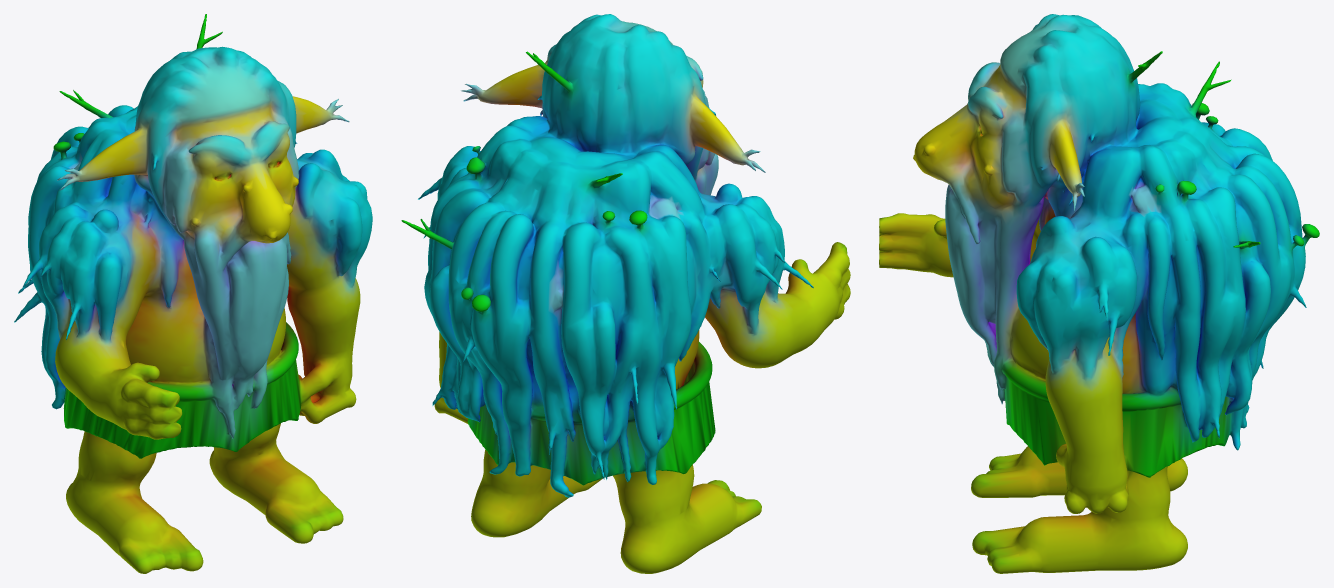
Rendered from troll-lod0.glb.
3 views of the same model, side by side, from view 1: azimuth 30°, elevation 25°; view 2: azimuth 150°, elevation 25°; view 3: azimuth 270°, elevation 25° (orthographic). The views are drawn at different scales.
Parts seen in each view (by area): view 1: TrollLOD0; view 2: TrollLOD0; view 3: TrollLOD0.
Part boxes in pixels (x1,y1,x2,y2): TrollLOD0: [14, 14, 372, 573]; TrollLOD0: [401, 14, 850, 573]; TrollLOD0: [879, 14, 1319, 573].
Bounding box in the file's own units: 0.7508 × 0.9857 × 0.7847.
